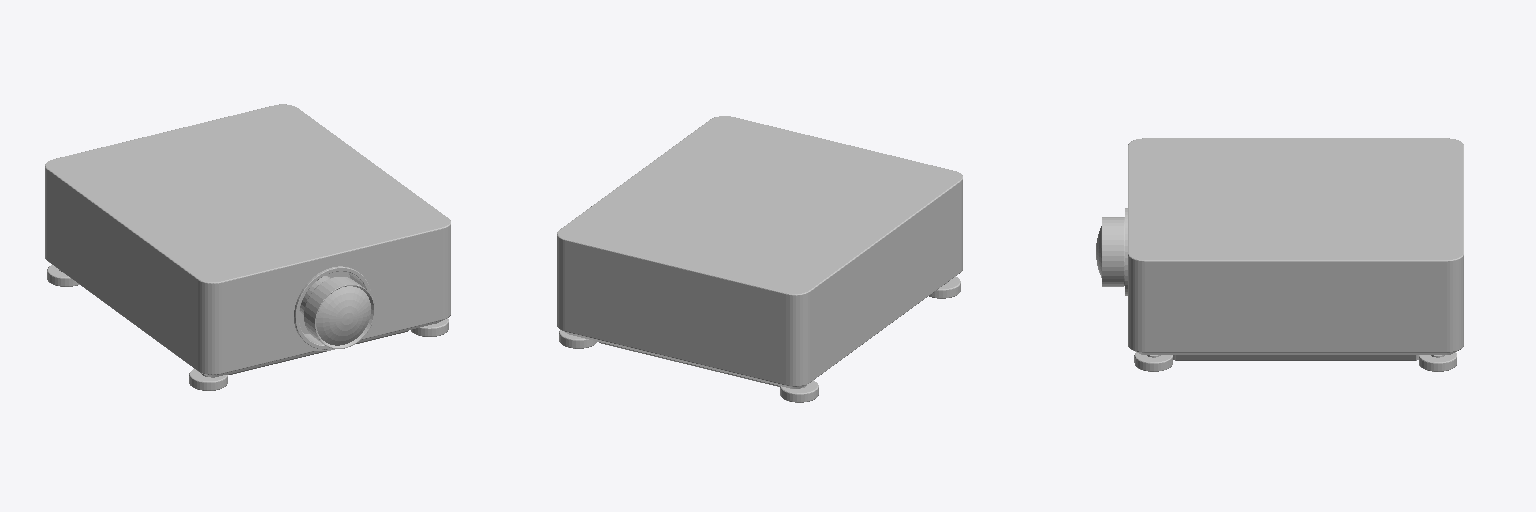
File: 03_Large Venue_H7T_General.obj
The picture shows the model from 3 angles: view 1: azimuth 30°, elevation 25°; view 2: azimuth 150°, elevation 25°; view 3: azimuth 270°, elevation 25°; orthographic projection.
Parts seen in each view (by area): view 1: 1, 2; view 2: 1; view 3: 1, 2.
Boxes of the visible parts, box(x1,y1,x2,y2) form: 1: box(45, 104, 450, 390); 2: box(300, 276, 374, 348); 1: box(557, 116, 962, 402); 1: box(1125, 138, 1463, 371); 2: box(1096, 217, 1124, 286).
Bounding box in the file's own units: 507 × 216 × 635.